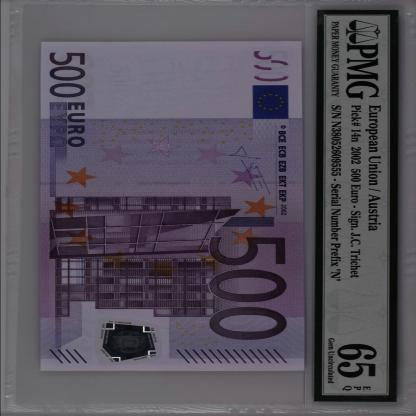euro_banknote: (8, 76, 338, 338)
